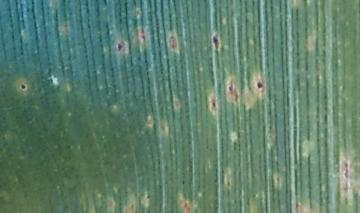tarspot: (211, 33, 221, 50), (255, 80, 264, 90), (210, 98, 217, 109), (117, 42, 125, 51), (20, 82, 27, 90), (227, 84, 234, 92)
